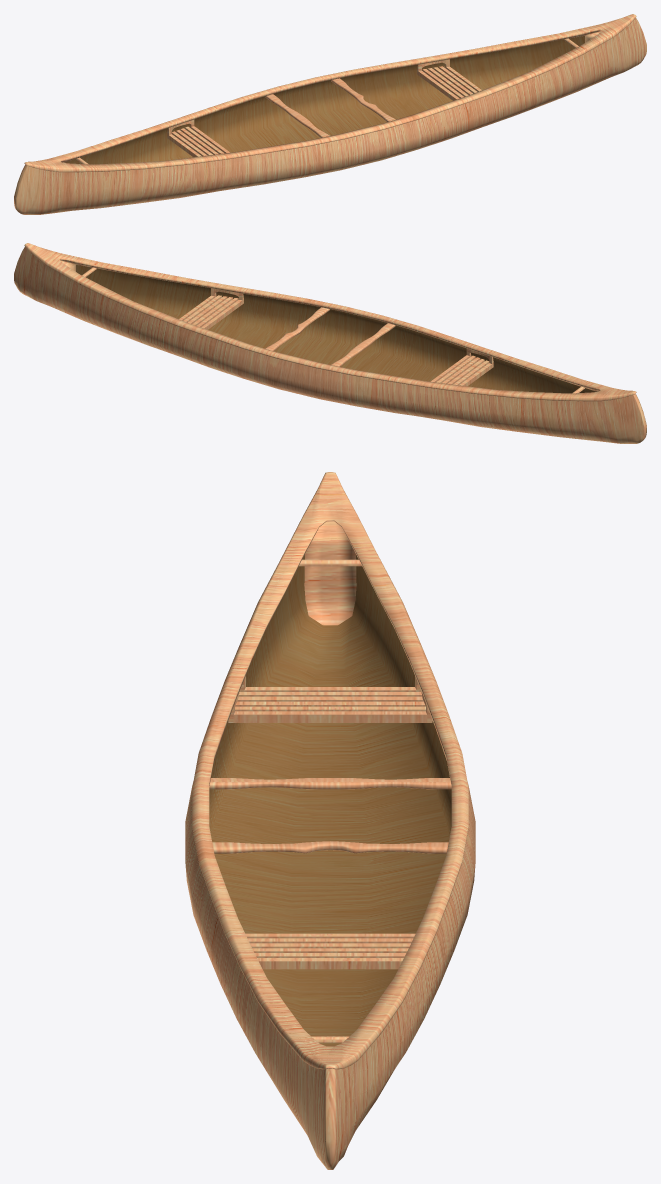
Rendered from canoe.glb.
The picture shows the model from 3 angles, top to bottom: view 1: azimuth 30°, elevation 25°; view 2: azimuth 150°, elevation 25°; view 3: azimuth 270°, elevation 25°; orthographic projection. The views are drawn at different scales.
Visible parts, largest first — view 1: Main_Piece, Siege, Bars; view 2: Main_Piece, Siege, Bars; view 3: Main_Piece, Siege, Bars.
Boxes of the visible parts, <box> form: Main_Piece: <box>14,14,646,214</box>; Siege: <box>167,59,481,157</box>; Bars: <box>265,78,395,137</box>; Main_Piece: <box>14,243,646,443</box>; Siege: <box>179,288,493,386</box>; Bars: <box>265,307,395,366</box>; Main_Piece: <box>185,472,475,1169</box>; Siege: <box>228,676,432,969</box>; Bars: <box>209,778,451,853</box>.
Bounding box in the file's own units: 48.66 × 4.72 × 9.68.
Materials: 1 (1 with a texture image).
